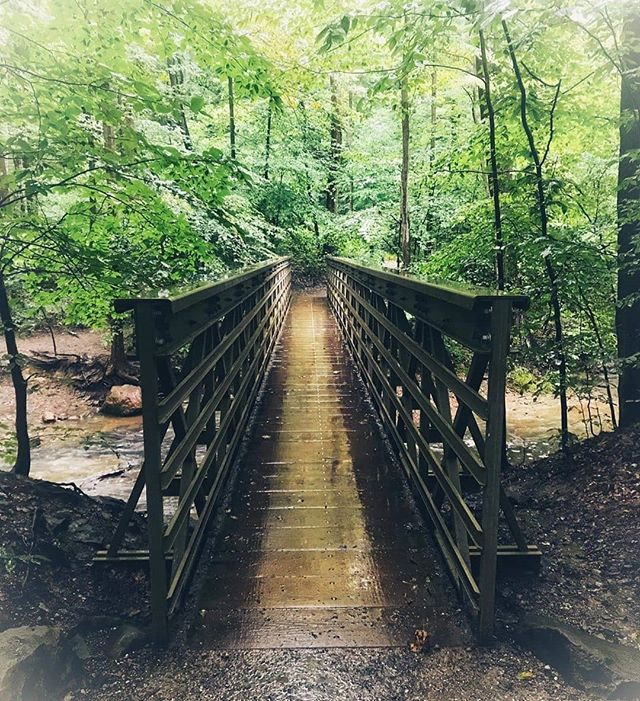bridge: (155, 250, 493, 648)
vegetation: (6, 1, 640, 296)
